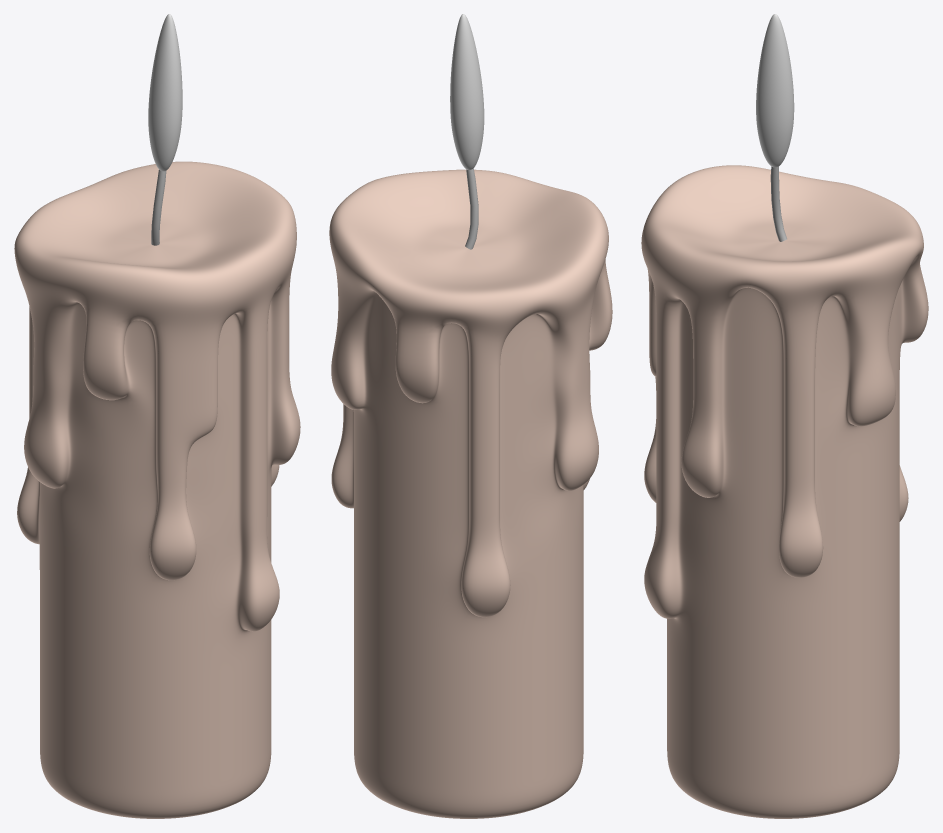
Rendered from candle.glb.
3 views of the same model, side by side, from view 1: azimuth 30°, elevation 25°; view 2: azimuth 150°, elevation 25°; view 3: azimuth 270°, elevation 25° (orthographic).
Visible parts, largest first — view 1: Candle, Flame, Rope; view 2: Candle, Flame, Rope; view 3: Candle, Flame, Rope.
Boxes of the visible parts, x1=… form: Candle: x1=14, y1=161, x2=300, y2=818; Flame: x1=148, y1=14, x2=182, y2=171; Rope: x1=151, y1=170, x2=166, y2=245; Candle: x1=329, y1=169, x2=612, y2=818; Flame: x1=450, y1=14, x2=484, y2=169; Rope: x1=465, y1=168, x2=478, y2=249; Candle: x1=641, y1=165, x2=928, y2=818; Flame: x1=756, y1=14, x2=794, y2=167; Rope: x1=770, y1=166, x2=786, y2=241.
Bounding box in the file's own units: 16.9 × 49.17 × 16.68.
